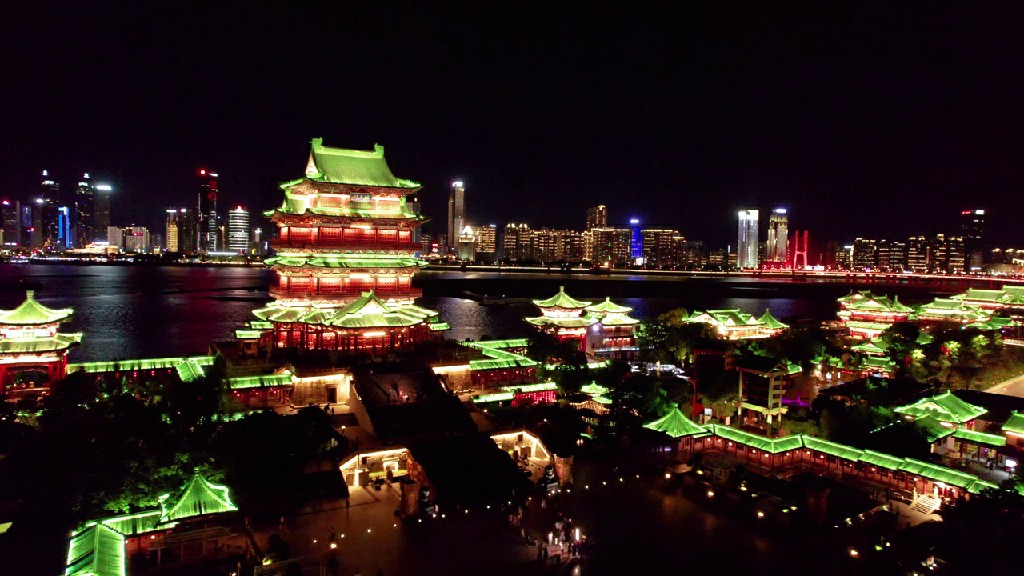Teng: (233, 136, 452, 348)
